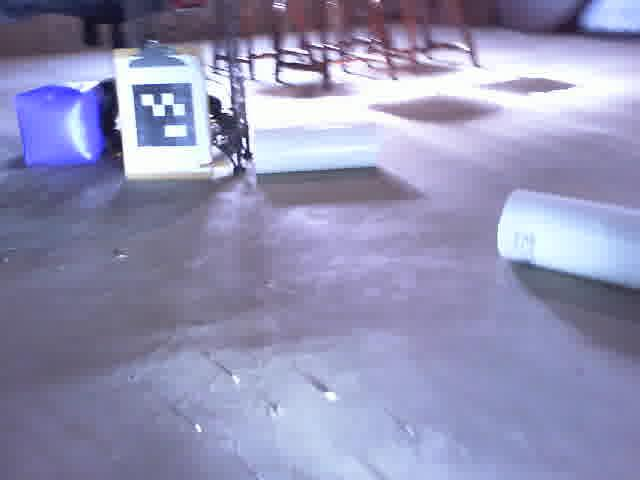coral: (497, 186, 640, 290), (254, 124, 381, 174)
